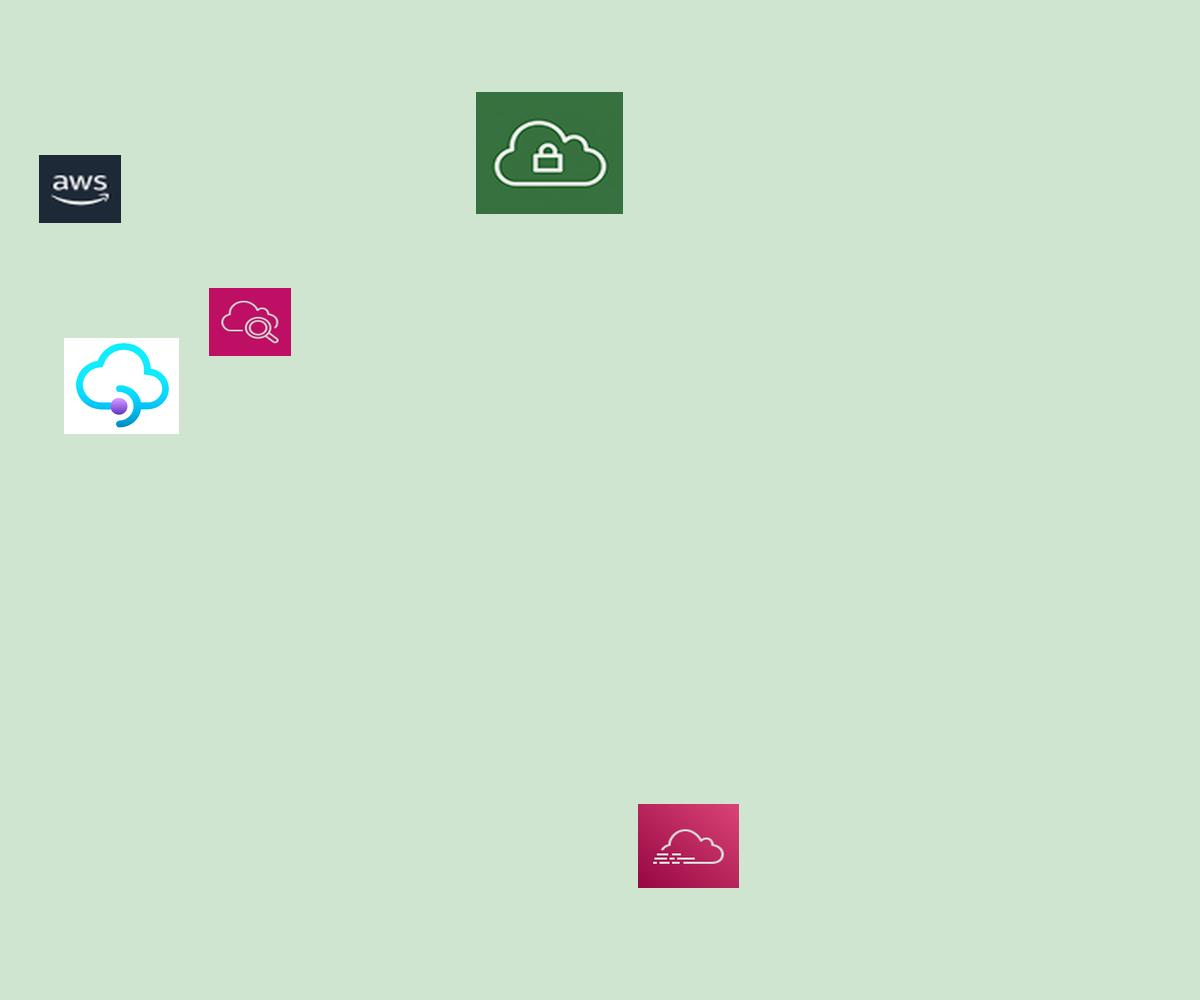AWS-Cloud-logo: (39, 155, 121, 223)
AWS-CloudTrail: (638, 804, 739, 888)
AWS-CloudWatch: (209, 288, 291, 356)
AWS-Private_vpc: (476, 92, 623, 214)
Azure_api_gateway: (64, 338, 179, 434)
